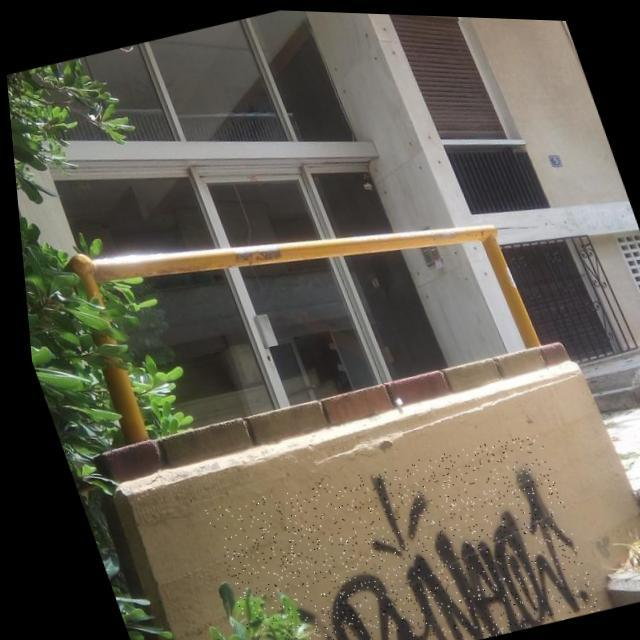-: (189, 417, 594, 640)
